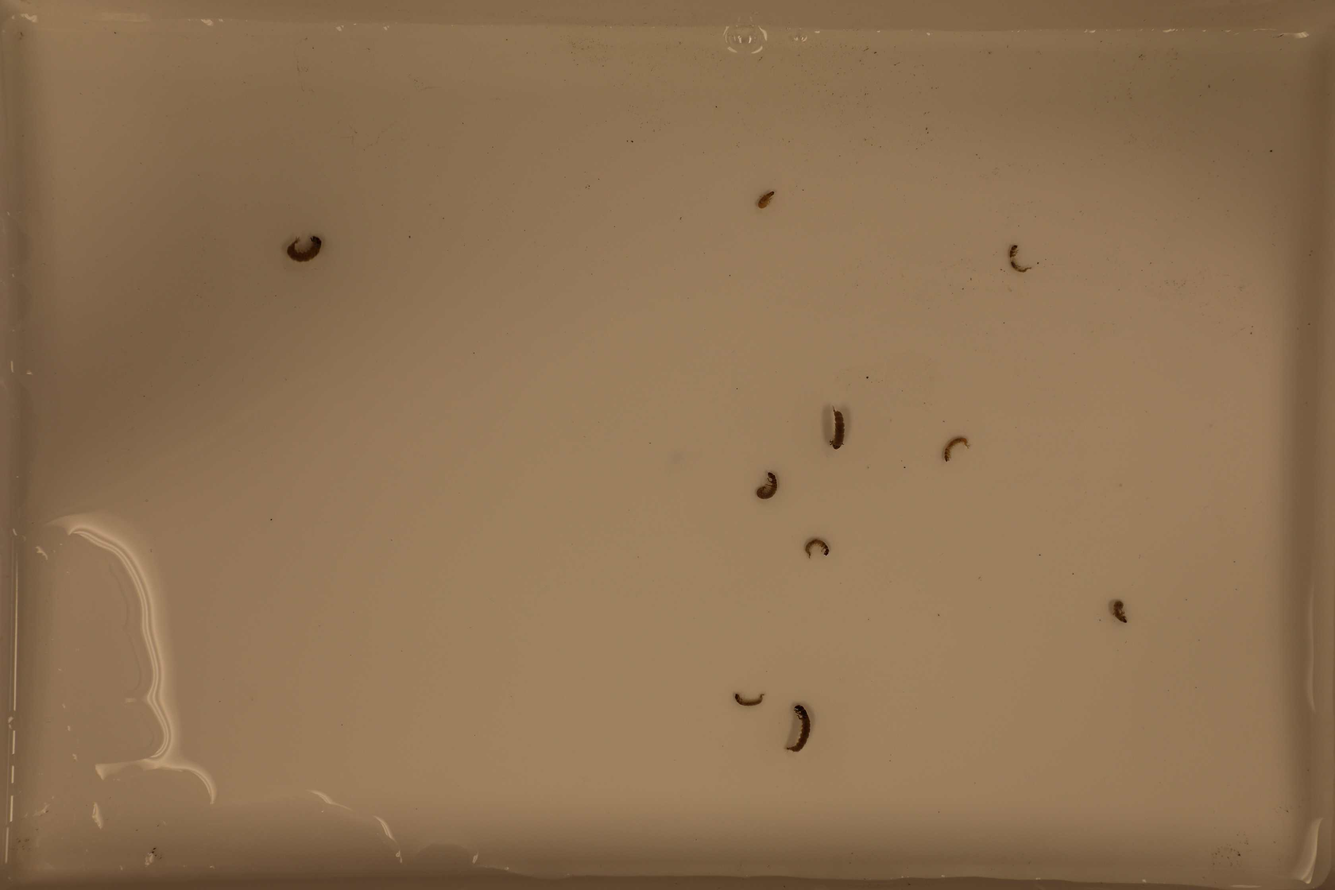Cadisfly: (783, 698, 821, 756), (822, 403, 850, 456), (279, 233, 325, 264), (938, 434, 973, 466), (1105, 593, 1134, 626), (725, 687, 766, 710), (802, 533, 832, 563), (753, 469, 781, 500), (1009, 243, 1035, 276), (753, 188, 778, 211)
